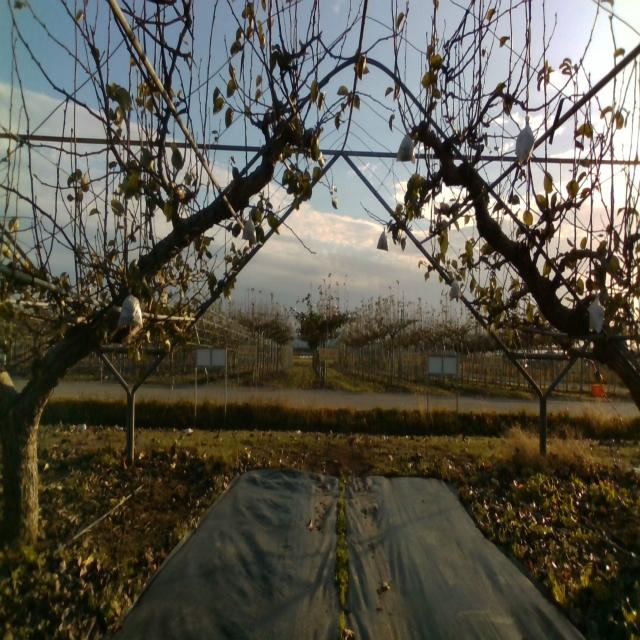pearbags: (118, 288, 144, 330), (516, 114, 534, 164), (590, 291, 605, 334), (397, 127, 415, 162), (242, 214, 258, 242), (376, 226, 388, 251), (449, 277, 461, 299)
